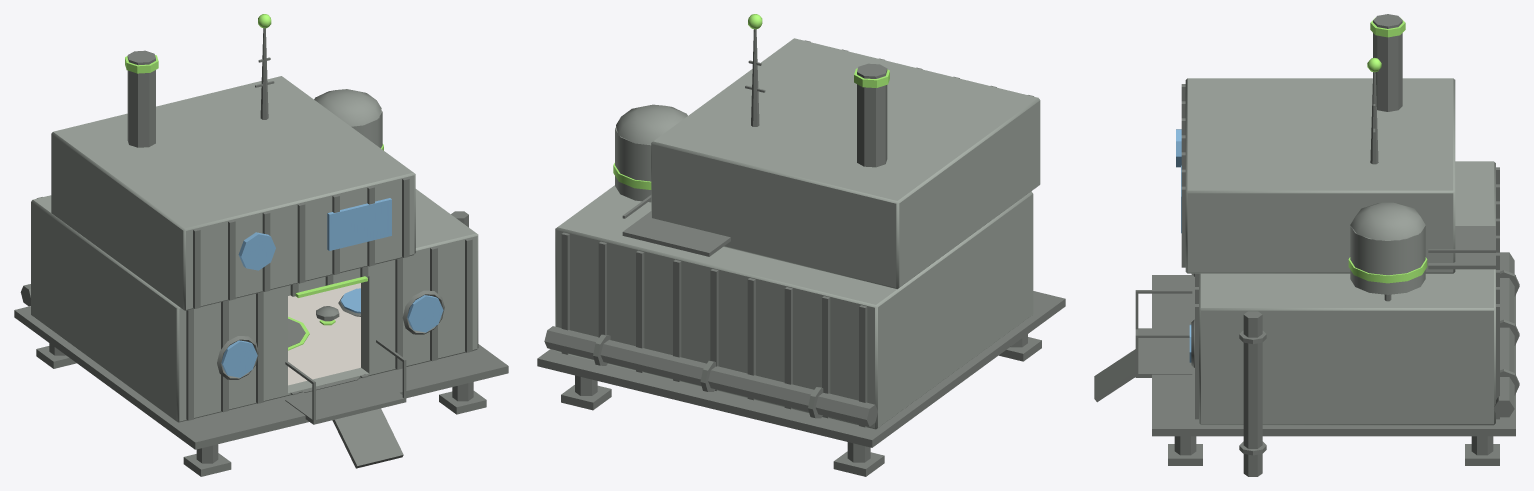
The model's file is MiasmaCasa.fbx.
3 views of the same model, side by side, from view 1: azimuth 30°, elevation 25°; view 2: azimuth 150°, elevation 25°; view 3: azimuth 270°, elevation 25° (orthographic). The views are drawn at different scales.
Parts seen in each view (by area): view 1: MiasmaCasa_Base_Cuerpo, MiasmaCasa_Base_Metal, MiasmaCasa_Base_Cristal, MiasmaCasa_Base_Forro, MiasmaCasa_Base_Techo, MiasmaCasa_Base_Luz; view 2: MiasmaCasa_Base_Cuerpo, MiasmaCasa_Base_Metal, MiasmaCasa_Base_Techo, MiasmaCasa_Base_Luz; view 3: MiasmaCasa_Base_Cuerpo, MiasmaCasa_Base_Metal, MiasmaCasa_Base_Techo, MiasmaCasa_Base_Luz.
Part boxes in pixels (x1,y1,x2,y2): MiasmaCasa_Base_Cuerpo: [31, 76, 478, 422]; MiasmaCasa_Base_Metal: [14, 28, 508, 476]; MiasmaCasa_Base_Cristal: [221, 198, 443, 377]; MiasmaCasa_Base_Forro: [288, 283, 360, 385]; MiasmaCasa_Base_Techo: [314, 89, 382, 148]; MiasmaCasa_Base_Luz: [125, 14, 383, 350]; MiasmaCasa_Base_Cuerpo: [555, 38, 1040, 429]; MiasmaCasa_Base_Metal: [537, 29, 1065, 476]; MiasmaCasa_Base_Techo: [615, 104, 687, 202]; MiasmaCasa_Base_Luz: [613, 14, 889, 189]; MiasmaCasa_Base_Cuerpo: [1185, 78, 1495, 425]; MiasmaCasa_Base_Metal: [1094, 14, 1519, 476]; MiasmaCasa_Base_Techo: [1350, 202, 1425, 294]; MiasmaCasa_Base_Luz: [1348, 17, 1427, 283].
Bounding box in the file's own units: 2812 × 2855 × 3152.
